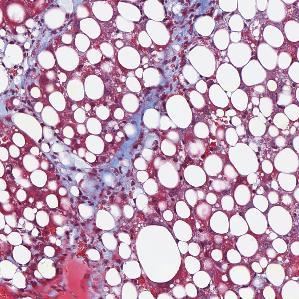fibrosis: (76, 167, 127, 219), (121, 108, 154, 163), (158, 40, 191, 83)
